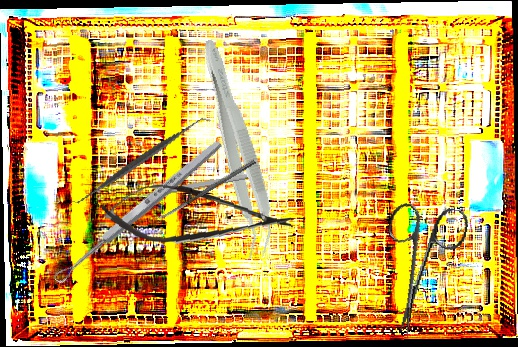Iris Scissors: (367, 196, 471, 345)
Micro Scissor: (100, 179, 296, 252)
Spatula Surgical: (70, 88, 211, 233)
Surgical Spoon: (51, 137, 225, 286), (155, 158, 257, 223), (122, 173, 248, 202)
Tissue Forceps: (186, 36, 285, 261)
